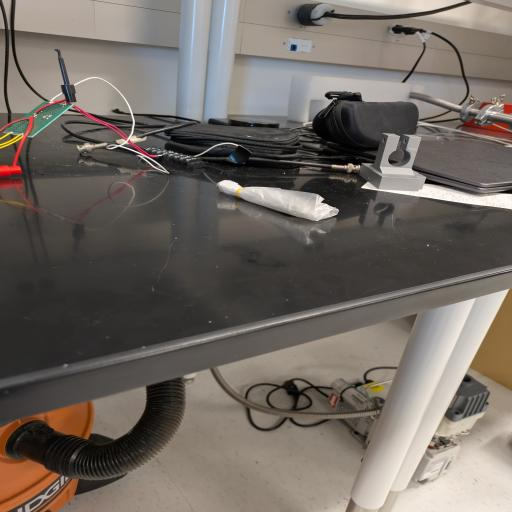rubberband: (212, 176, 343, 224)
